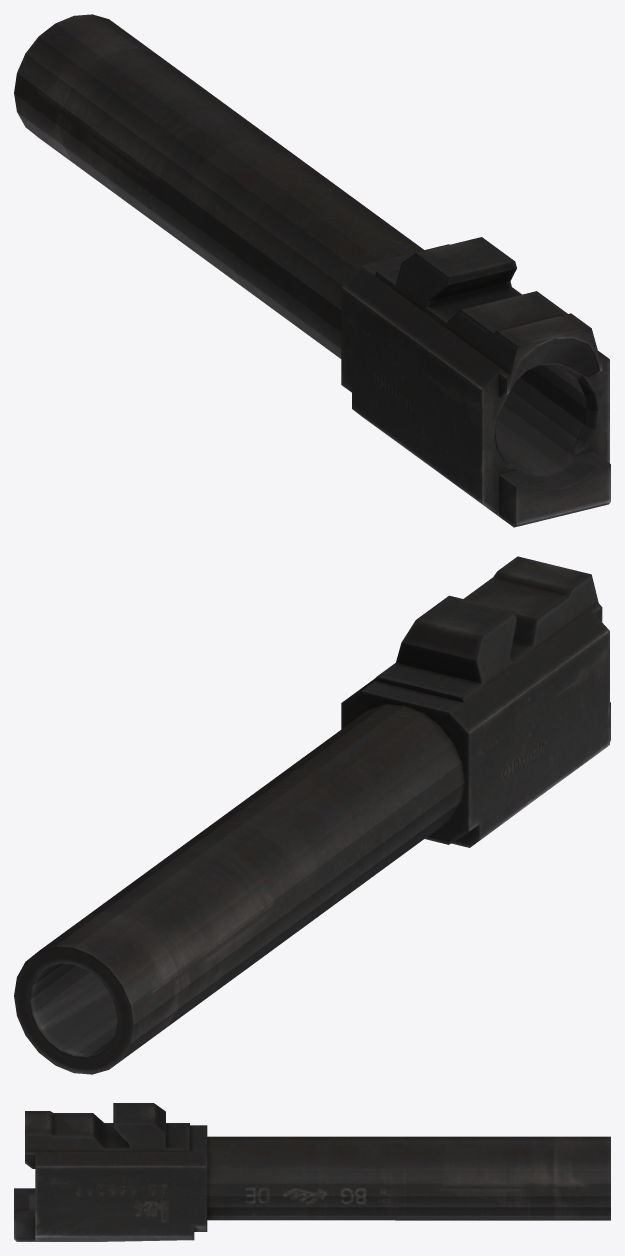
3 views of the same model, one above another, from view 1: azimuth 30°, elevation 25°; view 2: azimuth 150°, elevation 25°; view 3: azimuth 270°, elevation 25° (orthographic). The views are drawn at different scales.
Parts seen in each view (by area): view 1: TW_6194ef39de3cdf1d2614a768_PZ_Import; view 2: TW_6194ef39de3cdf1d2614a768_PZ_Import; view 3: TW_6194ef39de3cdf1d2614a768_PZ_Import.
Part boxes in pixels (box(x1,y1,x2,y2)): TW_6194ef39de3cdf1d2614a768_PZ_Import: box(14, 14, 610, 527); TW_6194ef39de3cdf1d2614a768_PZ_Import: box(14, 556, 610, 1074); TW_6194ef39de3cdf1d2614a768_PZ_Import: box(14, 1103, 610, 1241).
Size of the model in its own units: 0.00973 by 0.0647 by 0.0138.
Materials: 1 (1 with a texture image).
